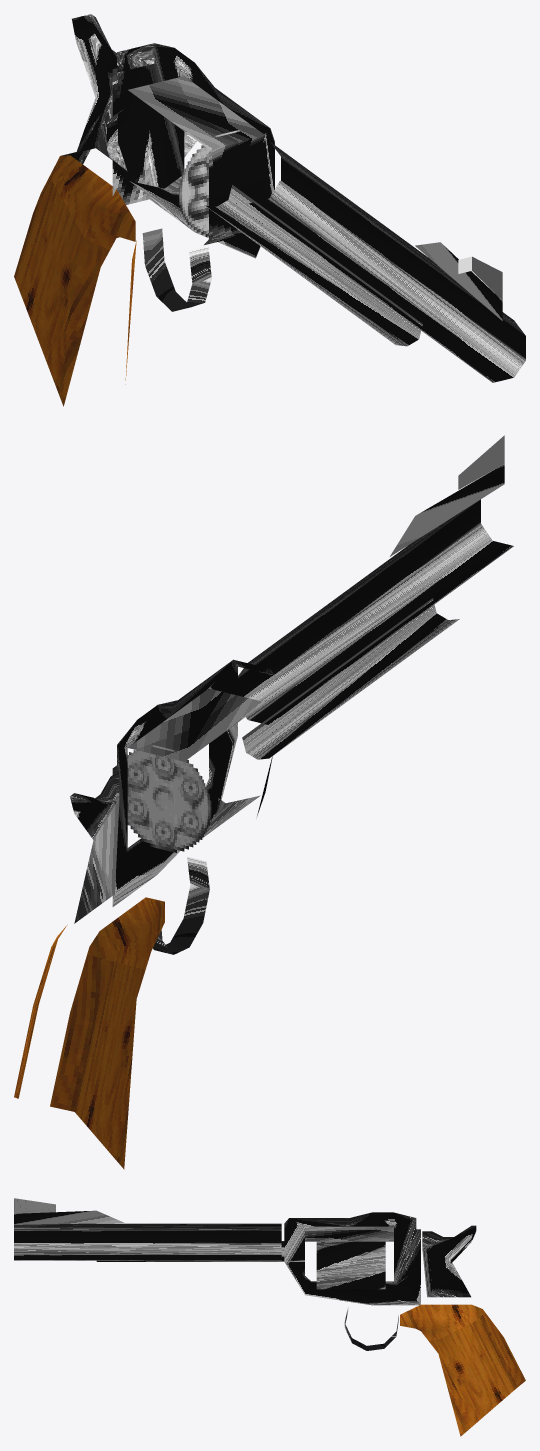
Rendered from gun_handless.glb.
3 renders of one model, top to bottom at view 1: azimuth 30°, elevation 25°; view 2: azimuth 150°, elevation 25°; view 3: azimuth 270°, elevation 25°, orthographic. The views are drawn at different scales.
Parts seen in each view (by area): view 1: m4EnvMappingTexScaleS0.062501TexScaleT0.062501, m11, m7CullBothEnvMappingTexScaleS0.062501TexScaleT0.062501, m10; view 2: m4EnvMappingTexScaleS0.062501TexScaleT0.062501, m11, m9, m7CullBothEnvMappingTexScaleS0.062501TexScaleT0.062501; view 3: m4EnvMappingTexScaleS0.062501TexScaleT0.062501, m11, m7CullBothEnvMappingTexScaleS0.062501TexScaleT0.062501.
Part boxes in pixels (x1,y1,x2,y2): m4EnvMappingTexScaleS0.062501TexScaleT0.062501: (61, 14, 525, 382); m11: (14, 155, 136, 406); m7CullBothEnvMappingTexScaleS0.062501TexScaleT0.062501: (142, 228, 211, 311); m10: (179, 130, 240, 236); m4EnvMappingTexScaleS0.062501TexScaleT0.062501: (70, 435, 513, 923); m11: (14, 897, 164, 1169); m9: (127, 744, 211, 852); m7CullBothEnvMappingTexScaleS0.062501TexScaleT0.062501: (153, 856, 209, 954); m4EnvMappingTexScaleS0.062501TexScaleT0.062501: (14, 1198, 476, 1305); m11: (400, 1304, 525, 1436); m7CullBothEnvMappingTexScaleS0.062501TexScaleT0.062501: (344, 1306, 398, 1350).
Size of the model in its own units: 49 by 209 by 415.
5 materials, 5 textured.
